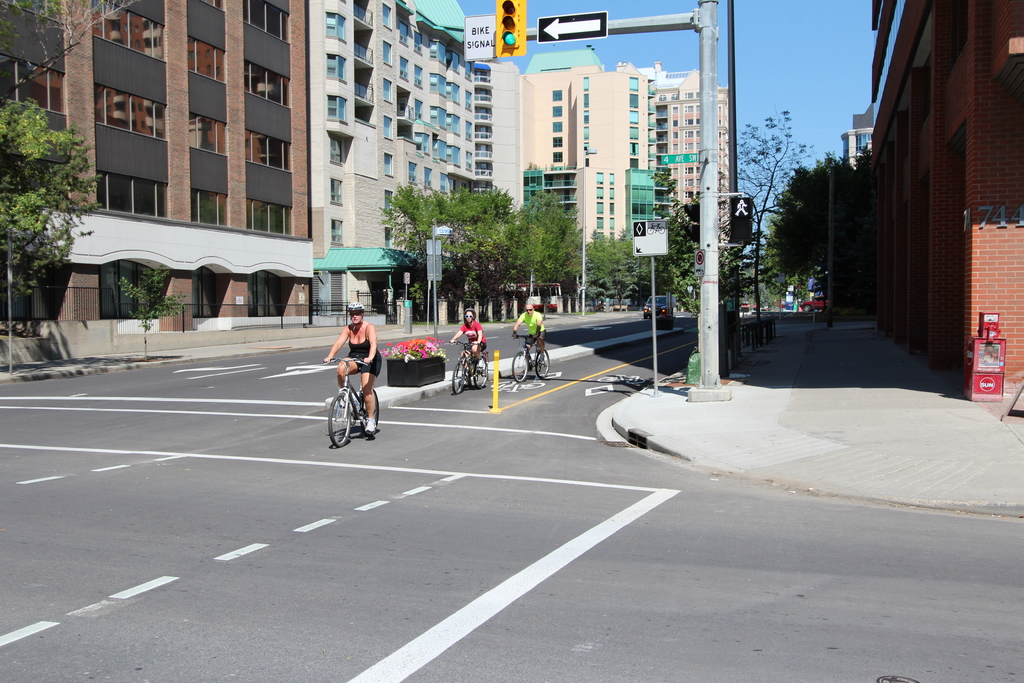Bike: (322, 354, 383, 448), (446, 335, 492, 396), (507, 331, 555, 384)
